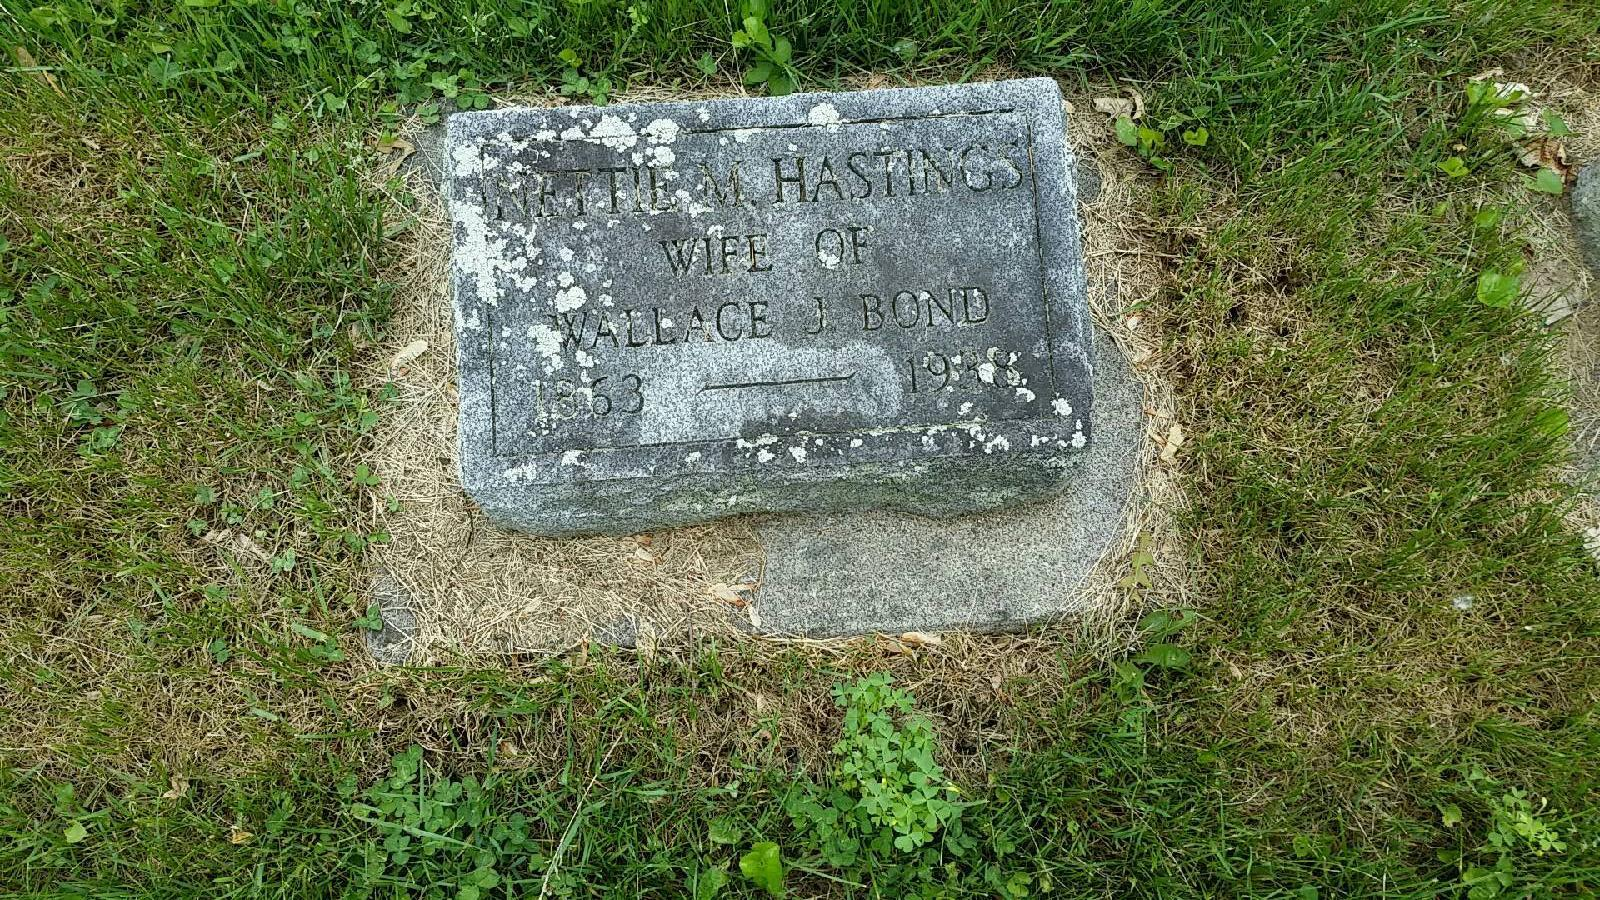flat: (443, 74, 1097, 507)
